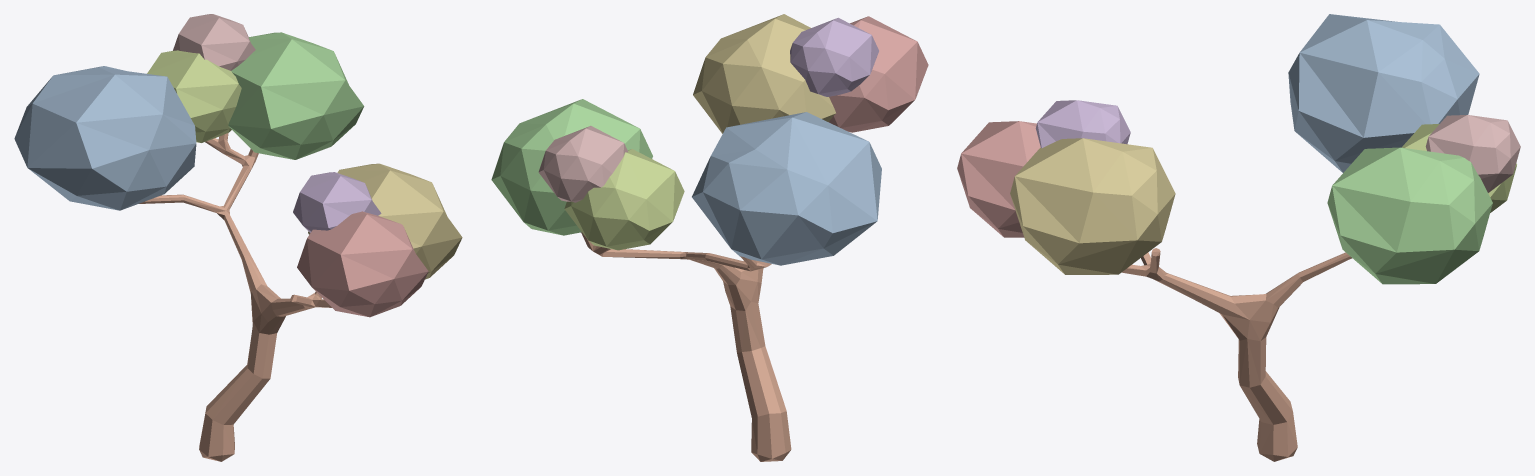
Rendered from Tree001.fbx.
The picture shows the model from 3 angles, left to right: view 1: azimuth 30°, elevation 25°; view 2: azimuth 150°, elevation 25°; view 3: azimuth 270°, elevation 25°; orthographic projection. The views are drawn at different scales.
Visible parts, largest first — view 1: Icosphere.003, Icosphere.001, Icosphere.005, Cube, Icosphere.002, Icosphere, Icosphere.006, Icosphere.004; view 2: Icosphere.003, Icosphere.002, Cube, Icosphere.001, Icosphere, Icosphere.005, Icosphere.006, Icosphere.004; view 3: Icosphere.003, Icosphere.001, Icosphere.002, Cube, Icosphere.005, Icosphere.004, Icosphere.006, Icosphere.
Part boxes in pixels (bbox=[...]): Icosphere.003: bbox=[14, 66, 196, 210]; Icosphere.001: bbox=[228, 32, 364, 159]; Icosphere.005: bbox=[297, 211, 428, 317]; Cube: bbox=[139, 133, 331, 461]; Icosphere.002: bbox=[308, 163, 462, 279]; Icosphere: bbox=[147, 50, 241, 142]; Icosphere.006: bbox=[293, 172, 381, 232]; Icosphere.004: bbox=[173, 14, 255, 70]; Icosphere.003: bbox=[692, 112, 881, 265]; Icosphere.002: bbox=[693, 14, 835, 133]; Cube: bbox=[581, 232, 791, 461]; Icosphere.001: bbox=[491, 99, 652, 235]; Icosphere: bbox=[564, 149, 684, 250]; Icosphere.005: bbox=[829, 16, 928, 132]; Icosphere.006: bbox=[790, 17, 878, 96]; Icosphere.004: bbox=[538, 126, 627, 202]; Icosphere.003: bbox=[1288, 14, 1479, 172]; Icosphere.001: bbox=[1327, 147, 1492, 284]; Icosphere.002: bbox=[1010, 138, 1175, 274]; Cube: bbox=[1122, 248, 1351, 461]; Icosphere.005: bbox=[957, 121, 1040, 237]; Icosphere.004: bbox=[1425, 115, 1520, 192]; Icosphere.006: bbox=[1035, 100, 1130, 148]; Icosphere: bbox=[1402, 124, 1516, 212].
Size of the model in its own units: 1184 by 1246 by 1571.
